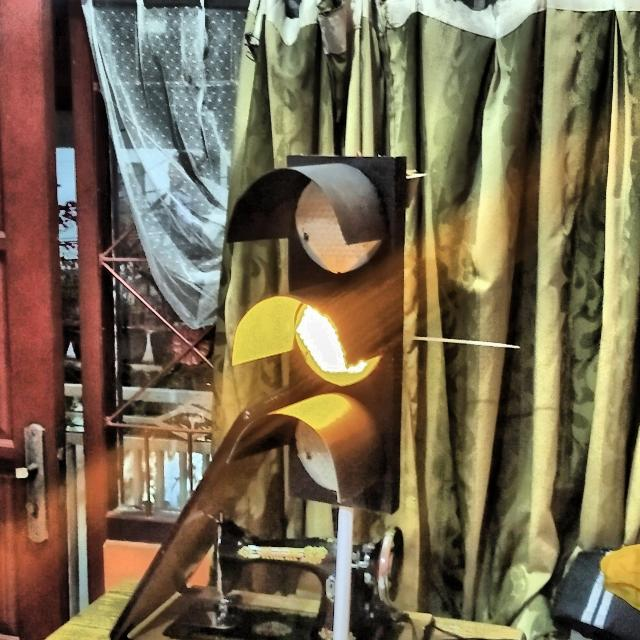yellow: (224, 158, 406, 510)
